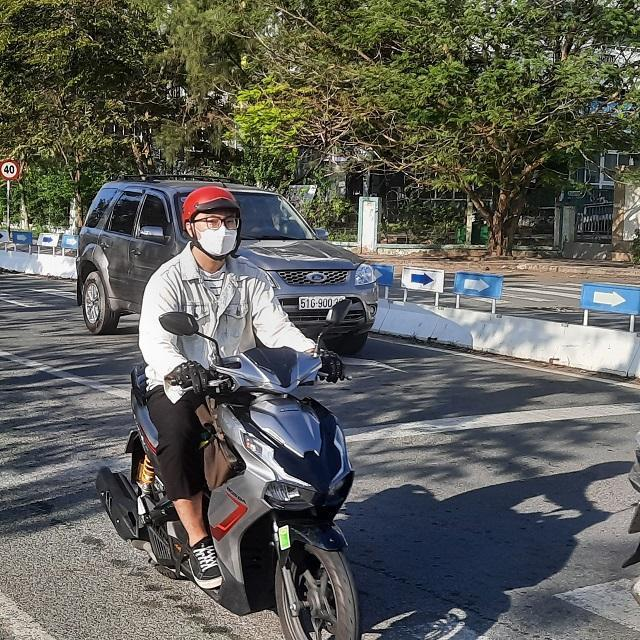Helmet: (180, 183, 243, 265)
